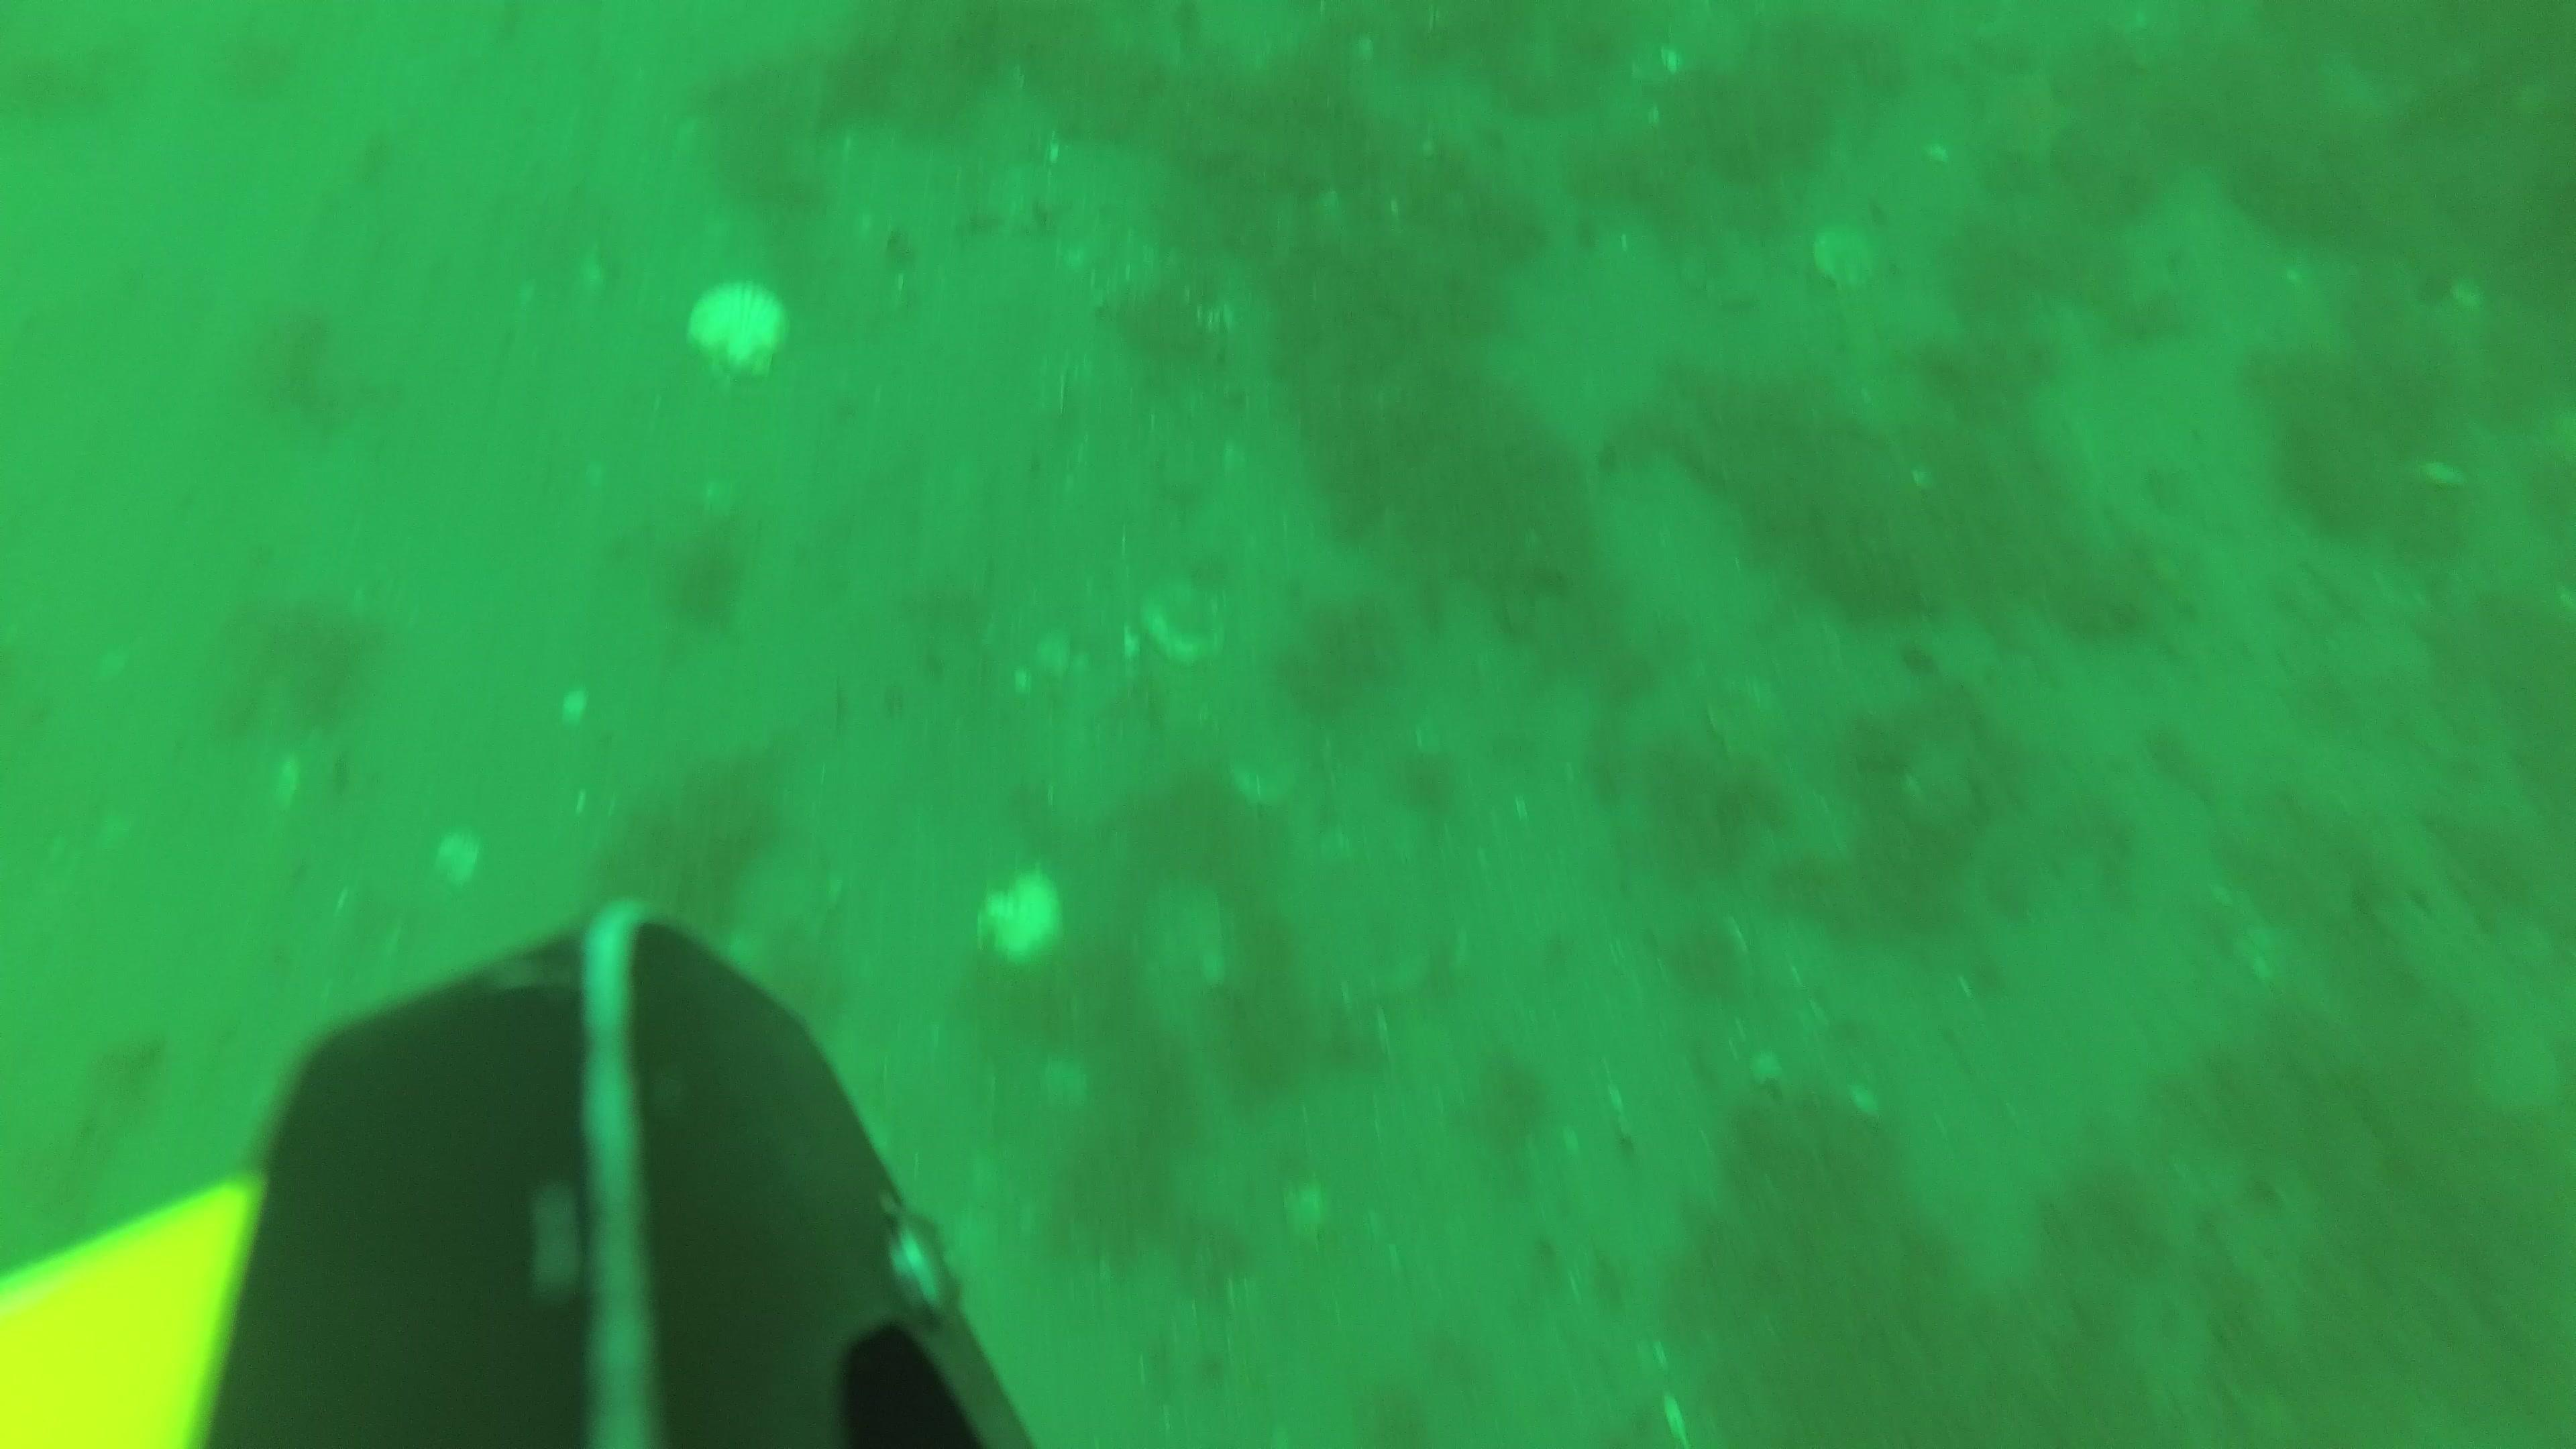scallop: (1118, 879, 1235, 1010), (683, 285, 794, 384), (975, 867, 1069, 975), (1668, 235, 1783, 322), (1698, 674, 1799, 766), (1136, 577, 1237, 665), (1338, 947, 1435, 1016), (1812, 223, 1888, 292)
starfish: (1966, 64, 2082, 170)
